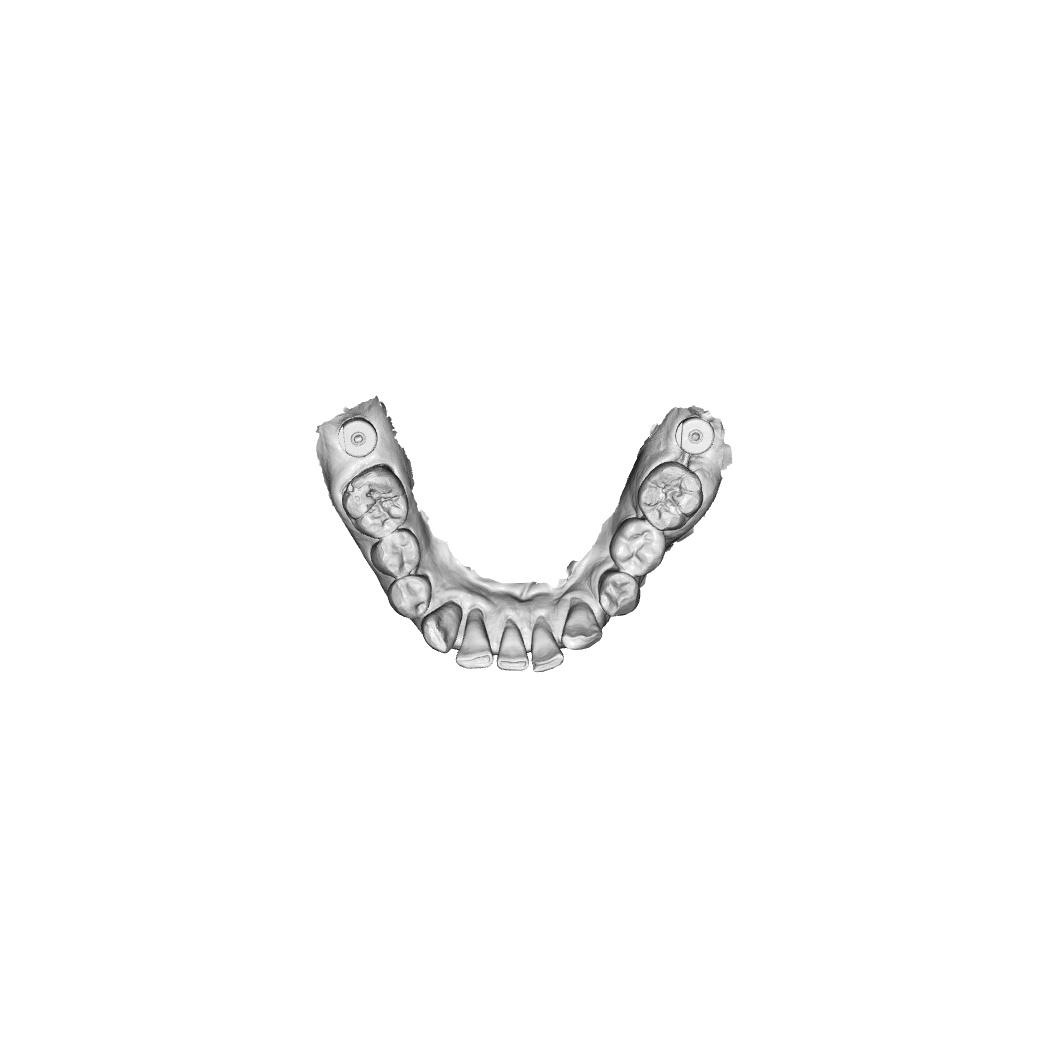canine: (560, 596, 603, 652), (420, 601, 463, 654)
implant: (336, 416, 380, 460), (674, 415, 716, 456)
incisor: (454, 607, 495, 670), (530, 616, 565, 674), (496, 618, 530, 673)
molar: (341, 462, 411, 540), (635, 460, 705, 533)
premolar: (609, 517, 667, 577), (370, 527, 422, 578), (597, 567, 641, 618), (387, 573, 433, 620)
